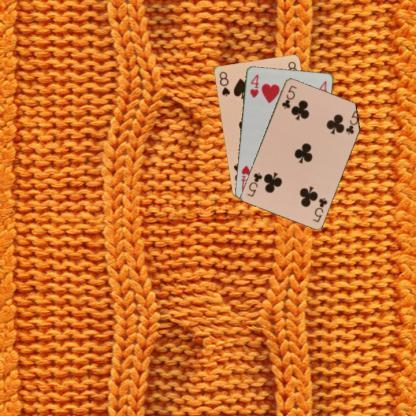4h: (247, 72, 260, 98)
5c: (279, 82, 298, 110), (310, 196, 328, 223)
8s: (217, 69, 231, 98)
